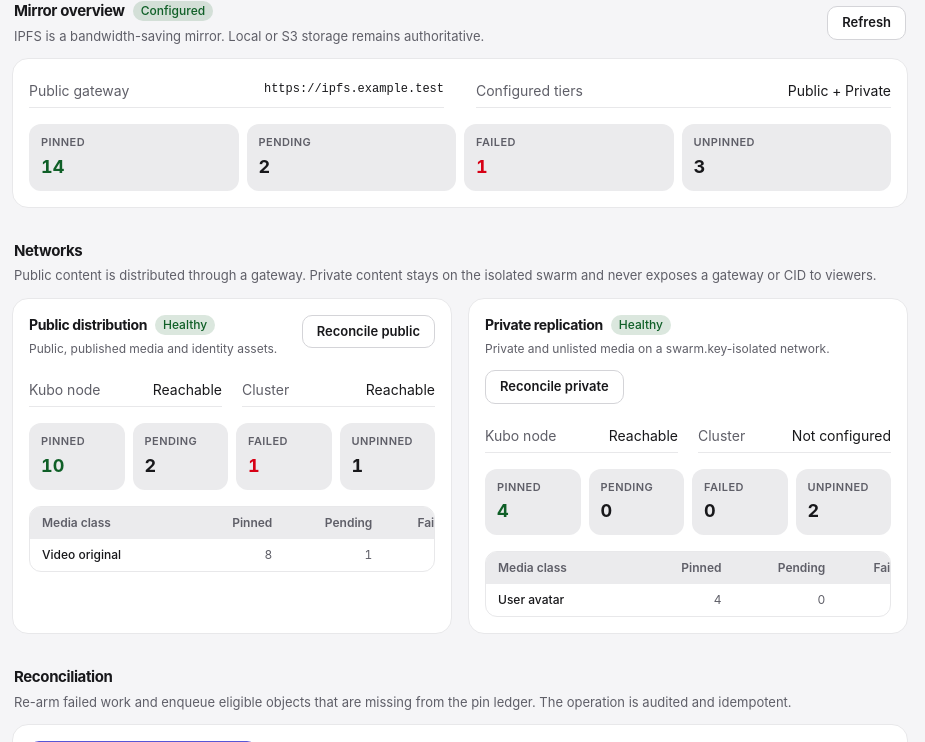
Test: IPFSConfigPanel › runs a network-scoped reconciliation and refreshes status
Click the button "Reconcile private".
click(554, 387)  # box [485,370,624,404]
(page scrolled)
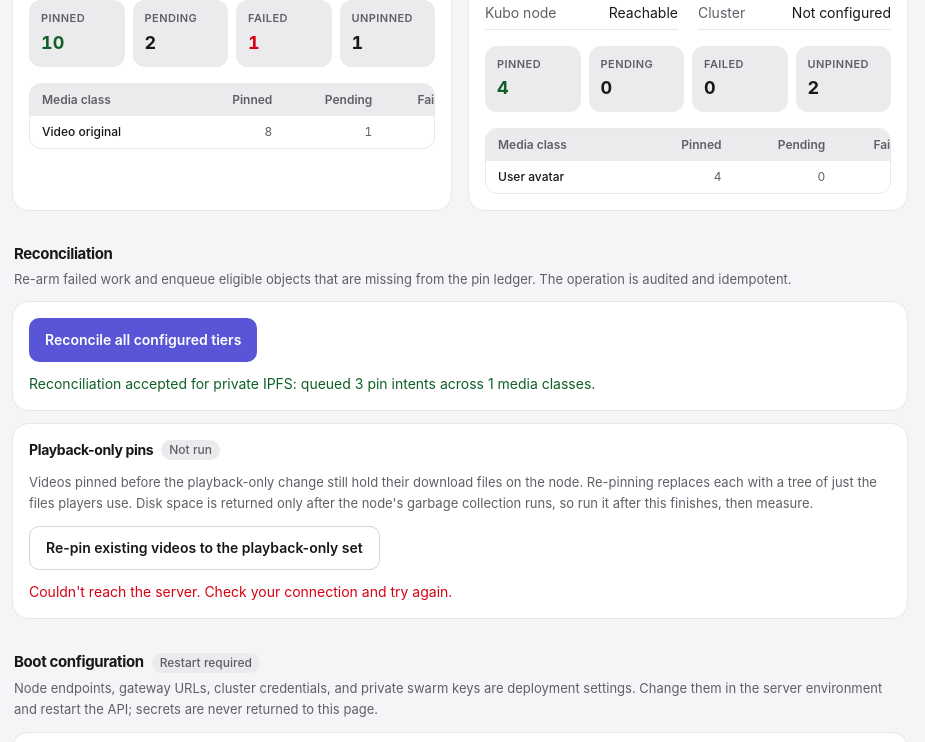
Check: the text "Reconciliation accepted for private IPFS: queued 3 pin intents" is shown, box [29,375,595,392]
